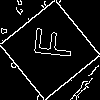F: (25, 25, 73, 60)
